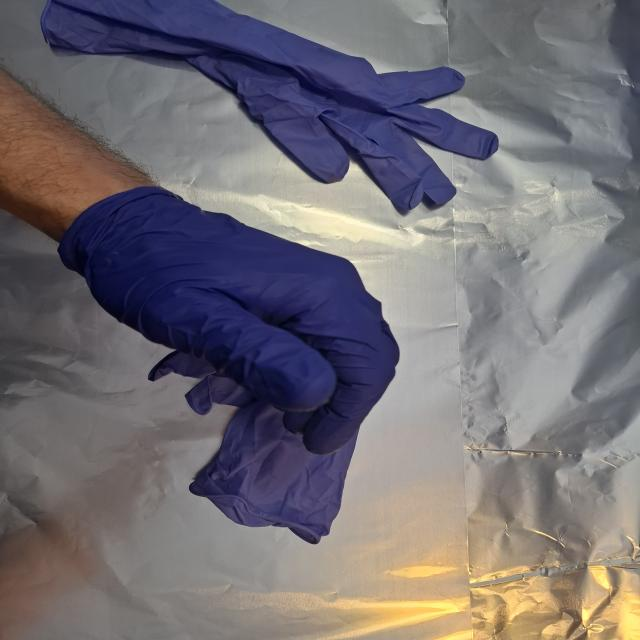glove_on: (55, 183, 403, 458)
